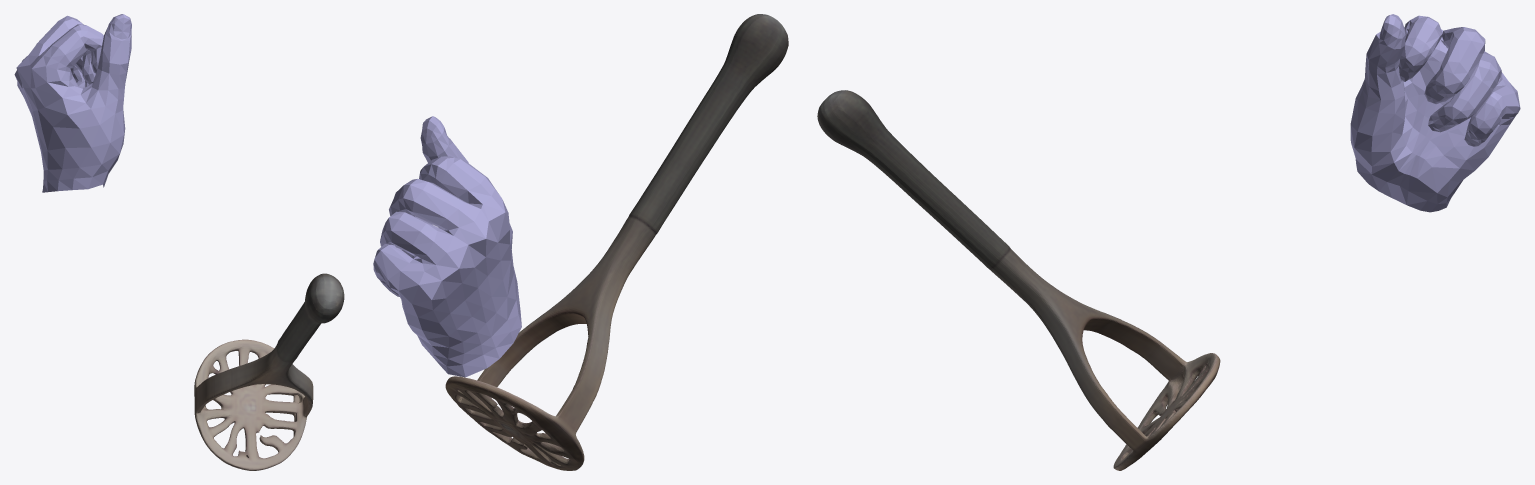
Rendered from frame_0037_source_000037_hand_object.glb.
3 renders of one model, left to right at view 1: azimuth 30°, elevation 25°; view 2: azimuth 150°, elevation 25°; view 3: azimuth 270°, elevation 25°, orthographic. The views are drawn at different scales.
Visible parts, largest first — view 1: world; view 2: world; view 3: world.
Boxes of the visible parts, x1,y1,x2,y2 form: world: [14, 14, 344, 470]; world: [373, 14, 788, 470]; world: [817, 14, 1520, 470].
Size of the model in its own units: 0.1125 by 0.2578 by 0.3763.
